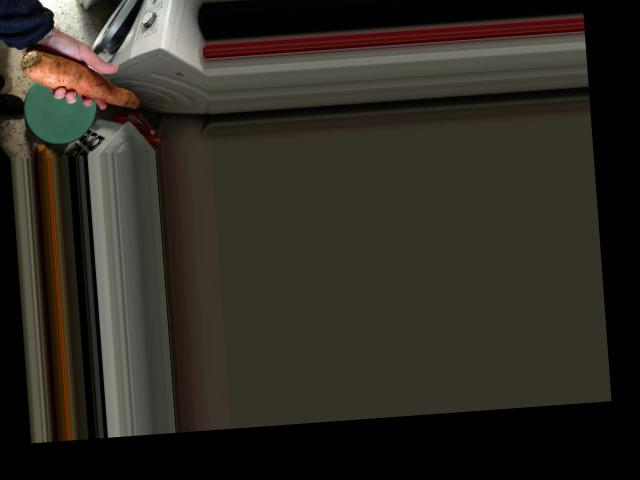sweet_potato: (18, 38, 149, 122)
